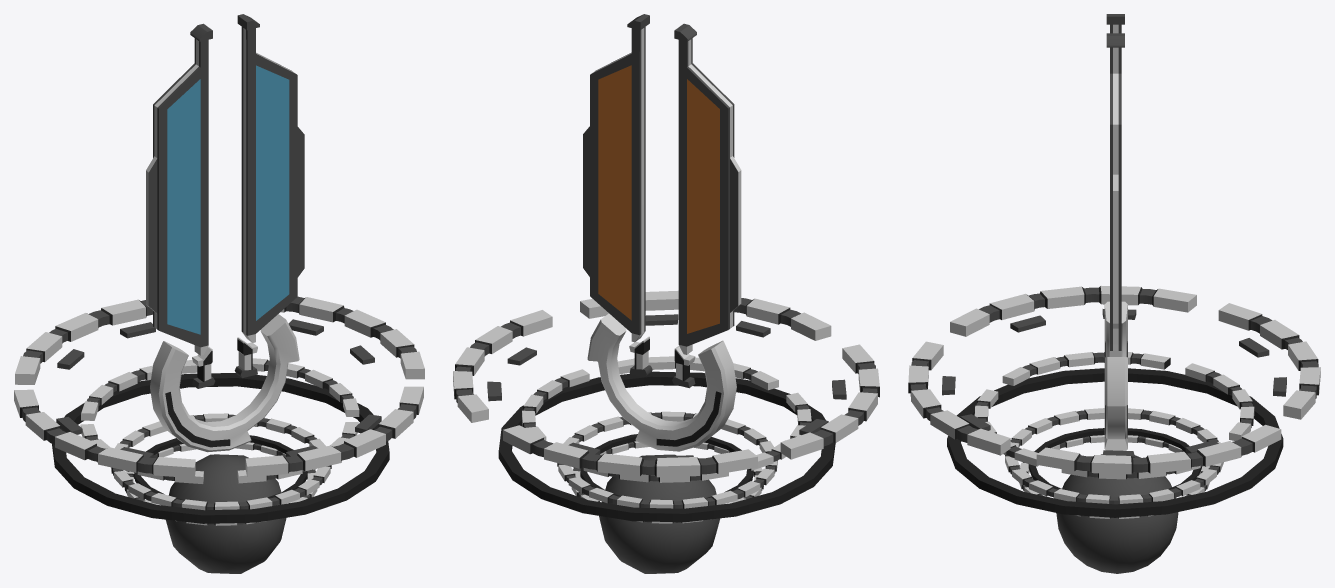
Rendered from tower_support_asset.fbx.
3 views of the same model, side by side, from view 1: azimuth 30°, elevation 25°; view 2: azimuth 150°, elevation 25°; view 3: azimuth 270°, elevation 25° (orthographic).
Visible parts, largest first — view 1: tower_support_asset; view 2: tower_support_asset; view 3: tower_support_asset.
Part boxes in pixels (x1=…): tower_support_asset: x1=14, y1=14, x2=424, y2=573; tower_support_asset: x1=453, y1=14, x2=879, y2=573; tower_support_asset: x1=908, y1=14, x2=1320, y2=573.
Bounding box in the file's own units: 120 × 170 × 117.
